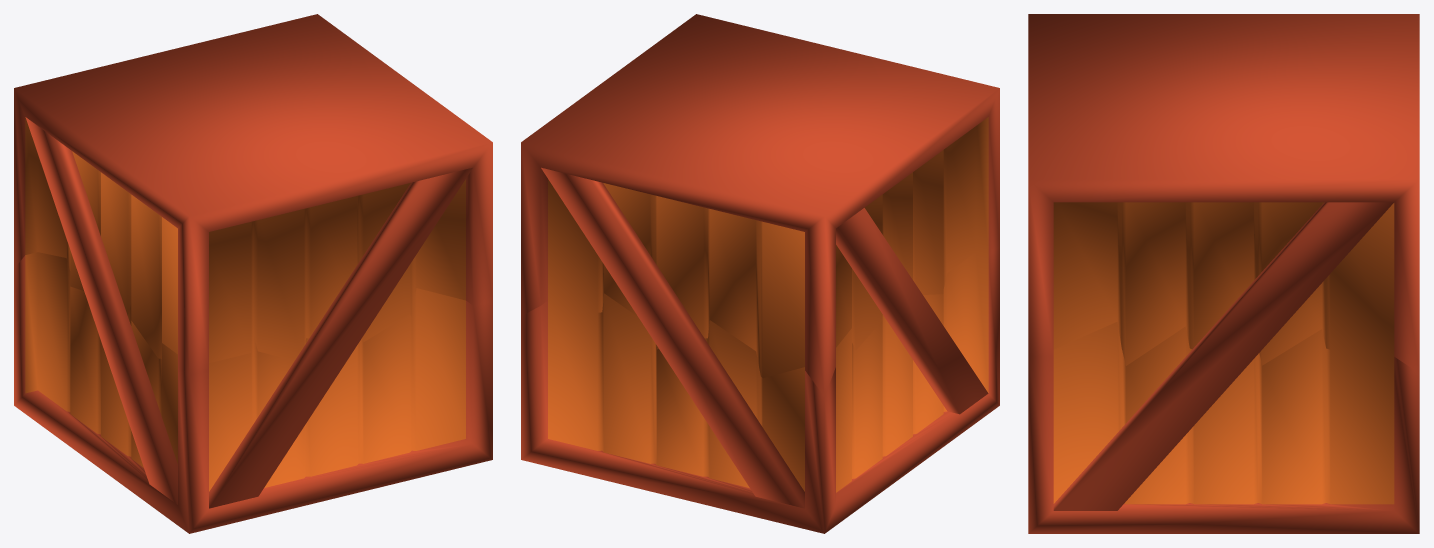
Rendered from CrateParts.fbx.
3 renders of one model, left to right at view 1: azimuth 30°, elevation 25°; view 2: azimuth 150°, elevation 25°; view 3: azimuth 270°, elevation 25°, orthographic. The views are drawn at different scales.
Parts seen in each view (by area): view 1: CratePart.005, CratePart.001, CratePart.004, CratePart.003; view 2: CratePart.005, CratePart.001, CratePart.002, CratePart.003; view 3: CratePart.005, CratePart.001, CratePart.
Boxes of the visible parts, x1,y1,x2,y2 form: CratePart.005: [14, 14, 492, 374]; CratePart.001: [14, 252, 492, 533]; CratePart.004: [209, 167, 472, 508]; CratePart.003: [25, 117, 177, 504]; CratePart.005: [521, 14, 999, 396]; CratePart.001: [521, 247, 999, 533]; CratePart.002: [541, 167, 804, 508]; CratePart.003: [836, 208, 988, 414]; CratePart.005: [1028, 14, 1419, 373]; CratePart.001: [1028, 322, 1419, 533]; CratePart: [1053, 202, 1393, 510].
Bounding box in the file's own units: 85.43 × 85.43 × 85.43.
1 material, 1 textured.
